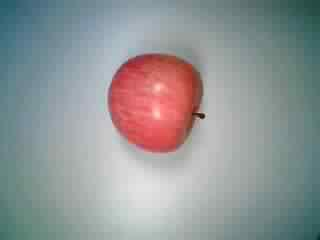apple: (103, 51, 208, 153)
